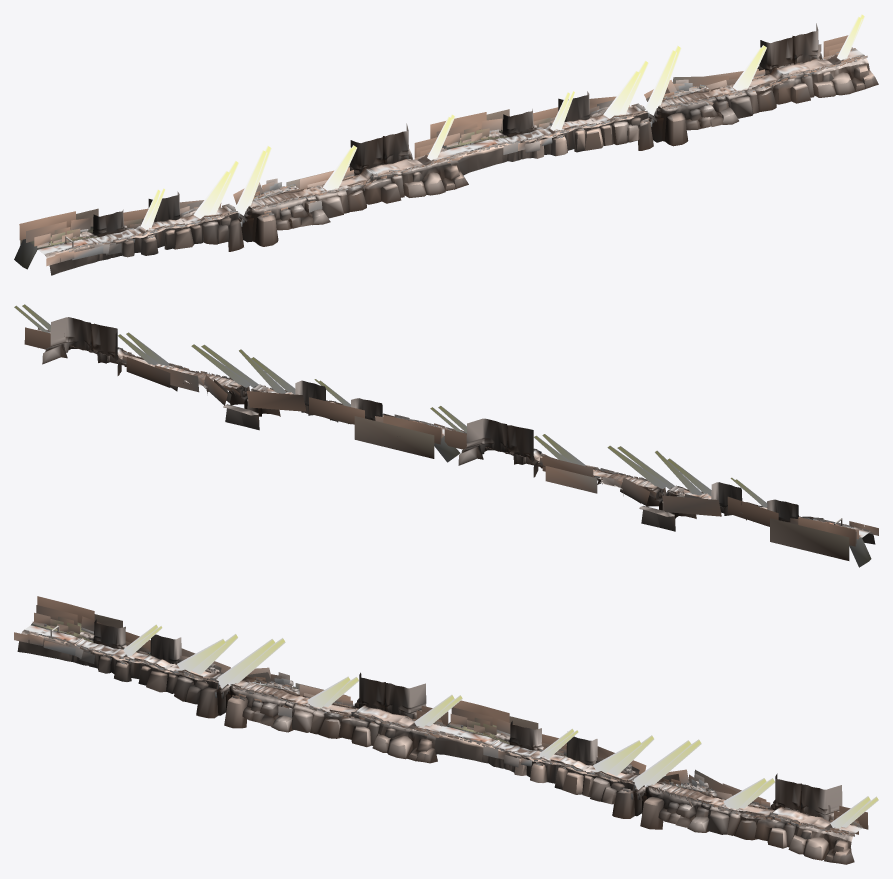
File: Forest_05.fbx
The picture shows the model from 3 angles, top to bottom: view 1: azimuth 30°, elevation 25°; view 2: azimuth 150°, elevation 25°; view 3: azimuth 330°, elevation 25°; orthographic projection.
Visible parts, largest first — view 1: Ground_01, Tree_01_A, Light_01, Ground_03_V1, Leak_A; view 2: Tree_01_A, Ground_01, Light_01, Ground_03_V1; view 3: Ground_01, Tree_01_A, Light_01, Ground_03_V1, Leak_A.
Boxes of the visible parts, bbox=[...] form: Ground_01: bbox=[14, 23, 878, 275]; Tree_01_A: bbox=[19, 35, 867, 266]; Light_01: bbox=[141, 14, 864, 229]; Ground_03_V1: bbox=[38, 50, 864, 255]; Leak_A: bbox=[153, 74, 775, 229]; Tree_01_A: bbox=[24, 327, 878, 560]; Ground_01: bbox=[38, 317, 875, 567]; Light_01: bbox=[14, 304, 767, 507]; Ground_03_V1: bbox=[37, 329, 869, 537]; Ground_01: bbox=[17, 619, 854, 864]; Tree_01_A: bbox=[14, 596, 868, 836]; Light_01: bbox=[123, 624, 878, 828]; Ground_03_V1: bbox=[23, 625, 862, 833]; Leak_A: bbox=[134, 651, 772, 815].
Bounding box in the file's own units: 86938 × 7635 × 6404.
